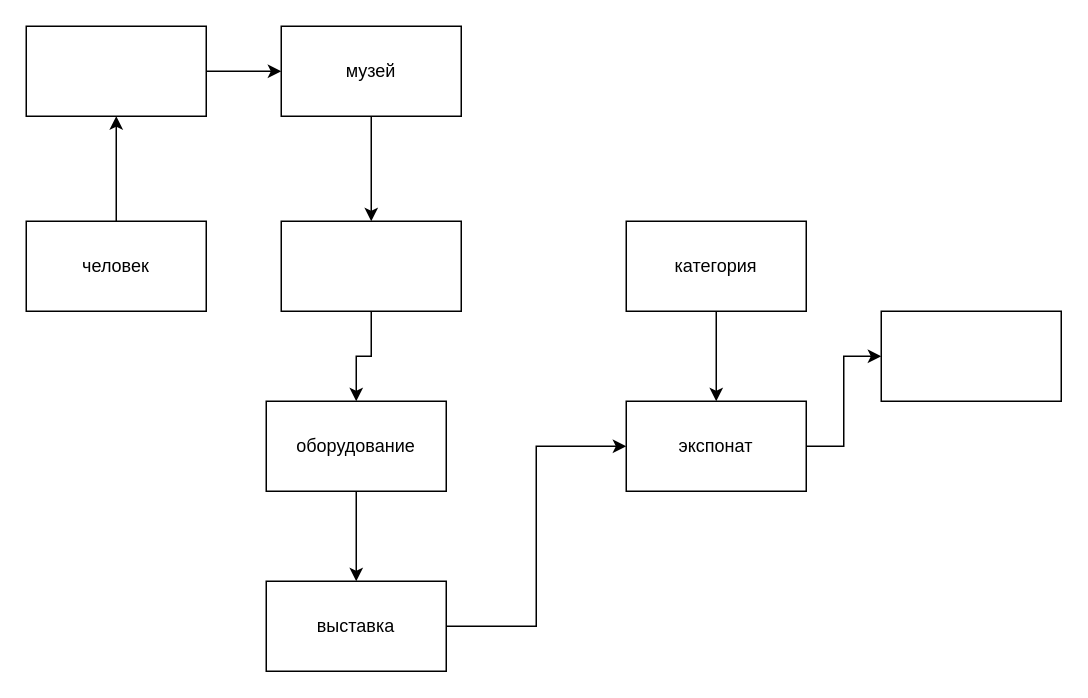
The diagram is 1088 pixels wide and 698 high, and some of its shapes have lost their labels. The shapes that lost their labels are listed below. From the top down, each one's centre as x and y in pixels, then its label:
At (x=115, y=70): "билет".
At (x=370, y=265): "помещение".
At (x=970, y=355): "набор".
